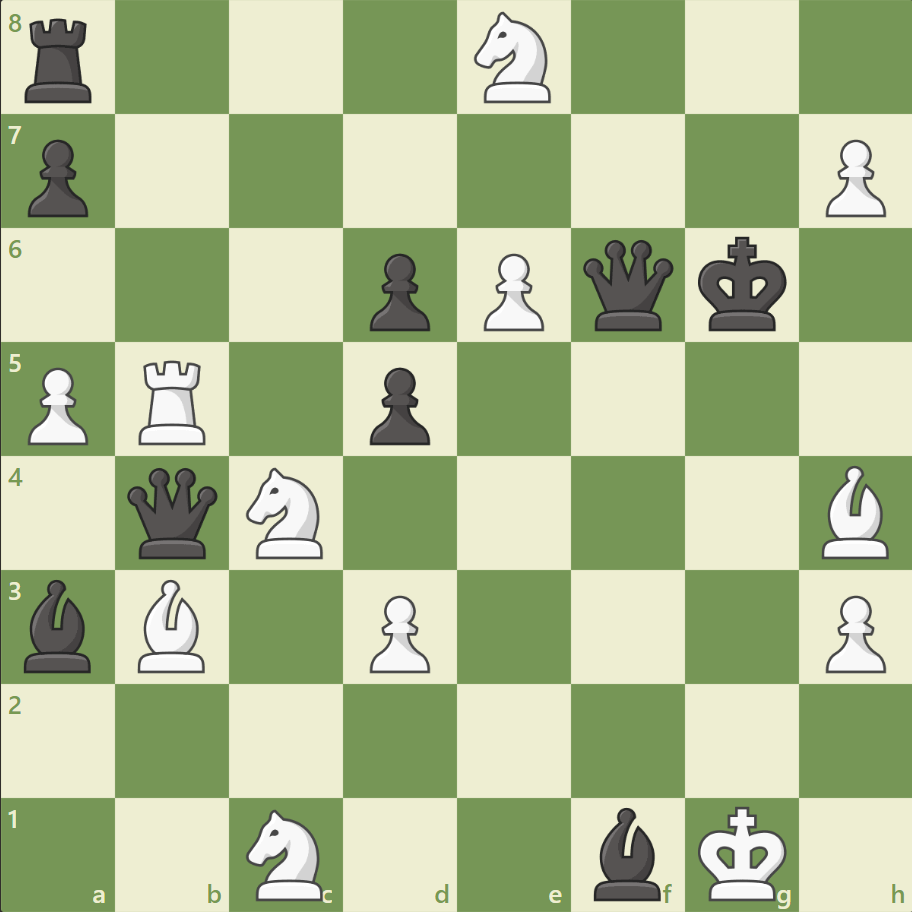B: (812, 460, 896, 563), (131, 574, 215, 676)
K: (692, 798, 792, 906)
N: (465, 7, 562, 110), (238, 461, 335, 564), (238, 802, 335, 904)
P: (474, 246, 549, 337), (20, 359, 95, 450), (815, 132, 889, 223), (361, 586, 435, 677), (815, 586, 889, 677)
R: (133, 352, 215, 449)
b: (585, 801, 669, 904), (17, 574, 101, 676)
k: (692, 231, 792, 339)
p: (20, 132, 95, 223), (361, 246, 435, 337), (361, 359, 435, 450)
q: (578, 236, 677, 335), (124, 463, 223, 562)
r: (19, 12, 102, 109)
